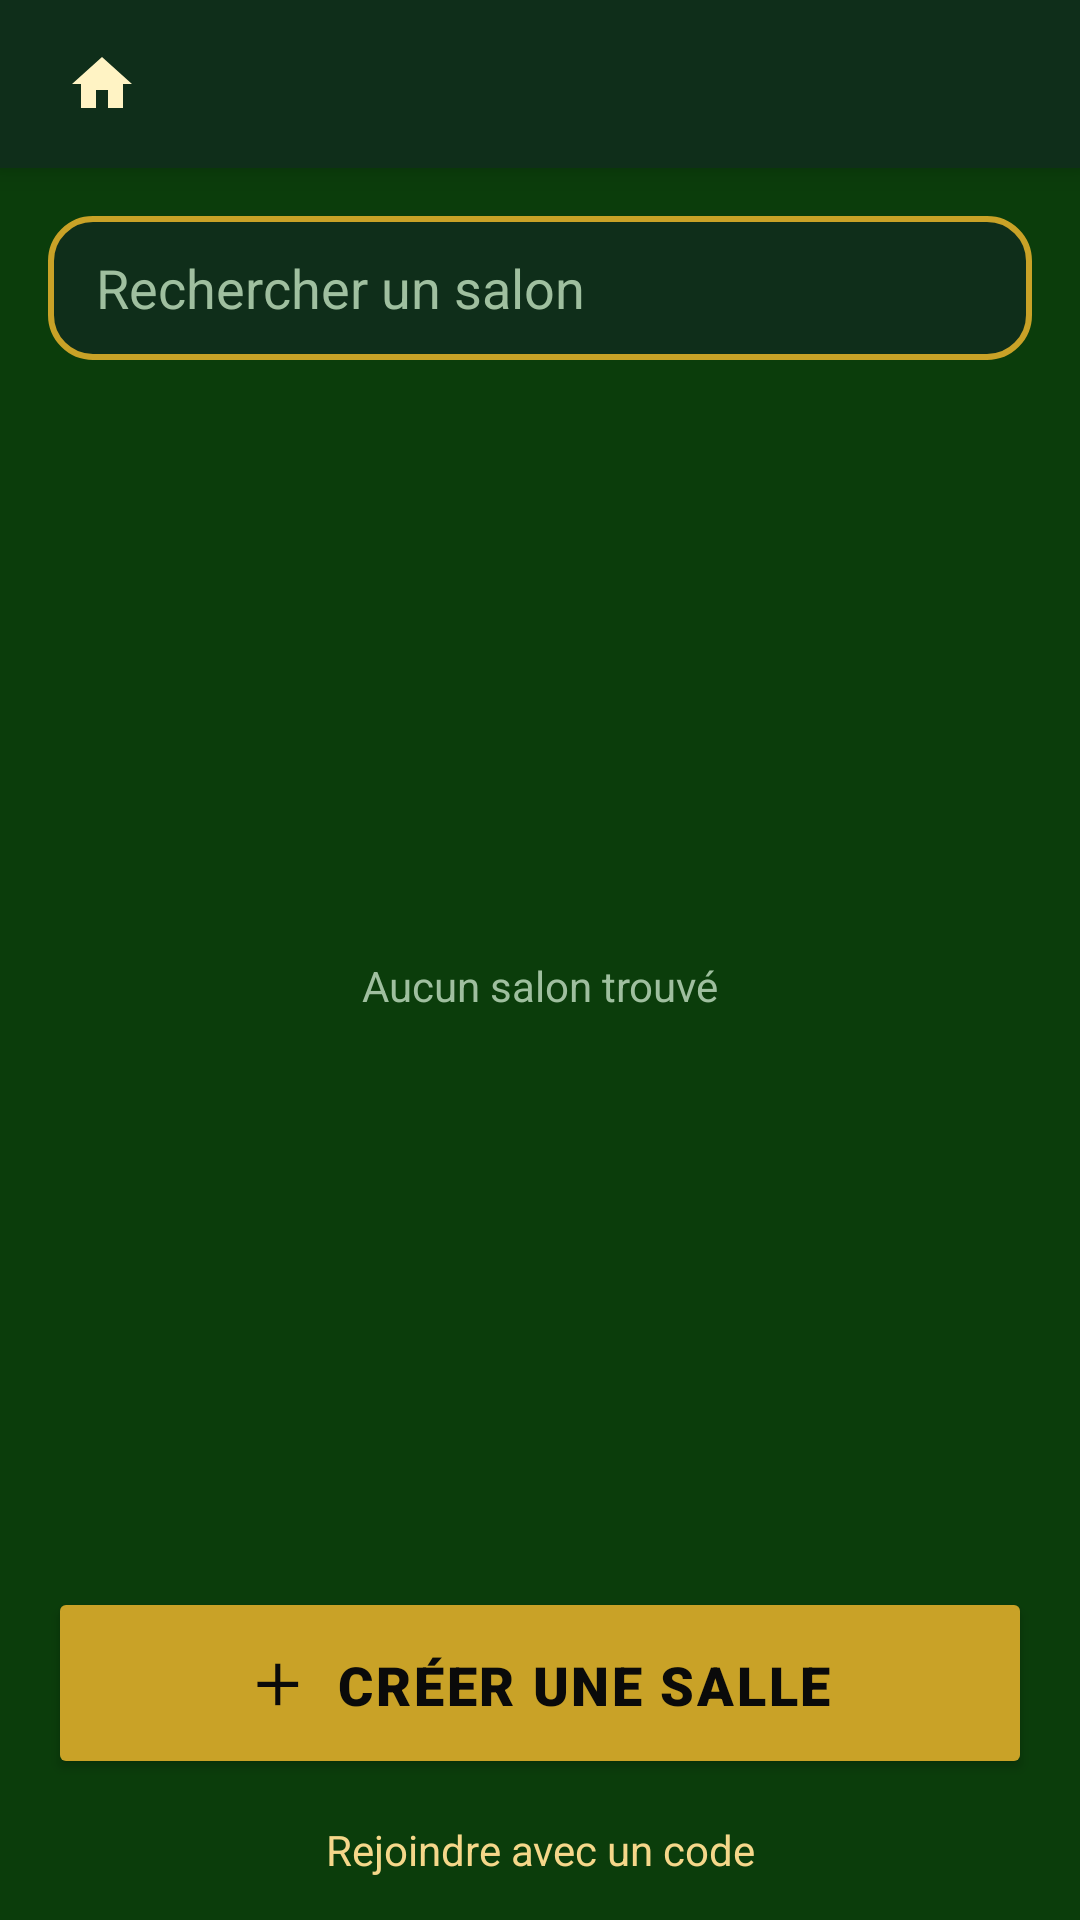

Screen size 1080x1920. Icon name, then its center in pixels as point (x, y):
Accueil: point (102, 82)
